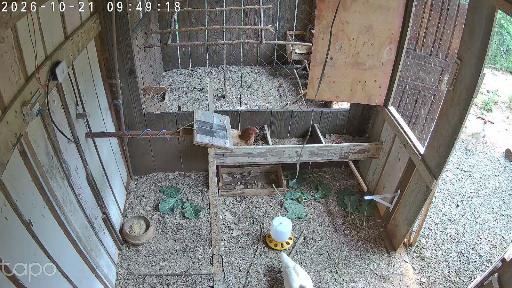galinha: (230, 126, 258, 145)
pato: (278, 251, 314, 287)
